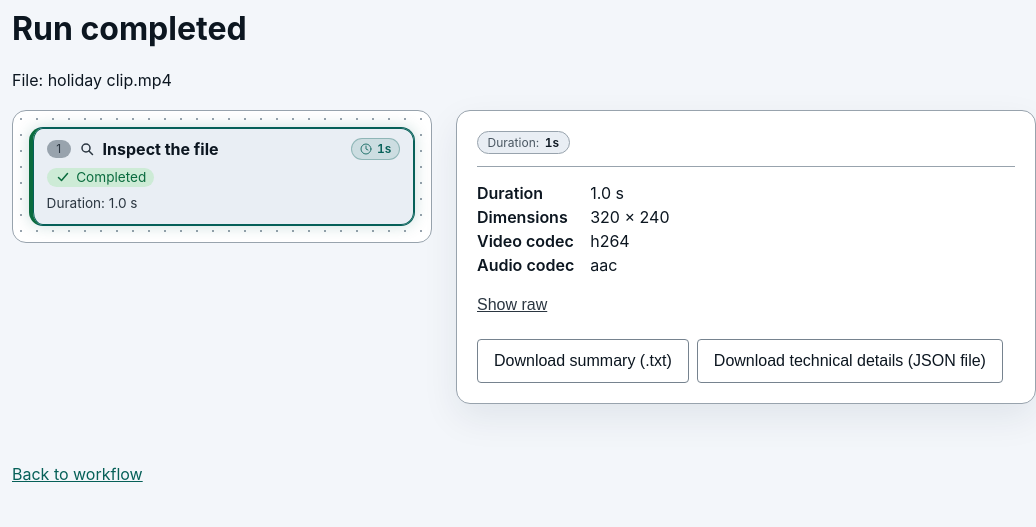
Scenario: RunProgressPage › says "Could not get download link" inline and re-enables the action when the request fails
The image size is (1036, 527).
Click the button "Download technical details (JSON file)".
click(850, 361)  # box [697,339,1003,383]
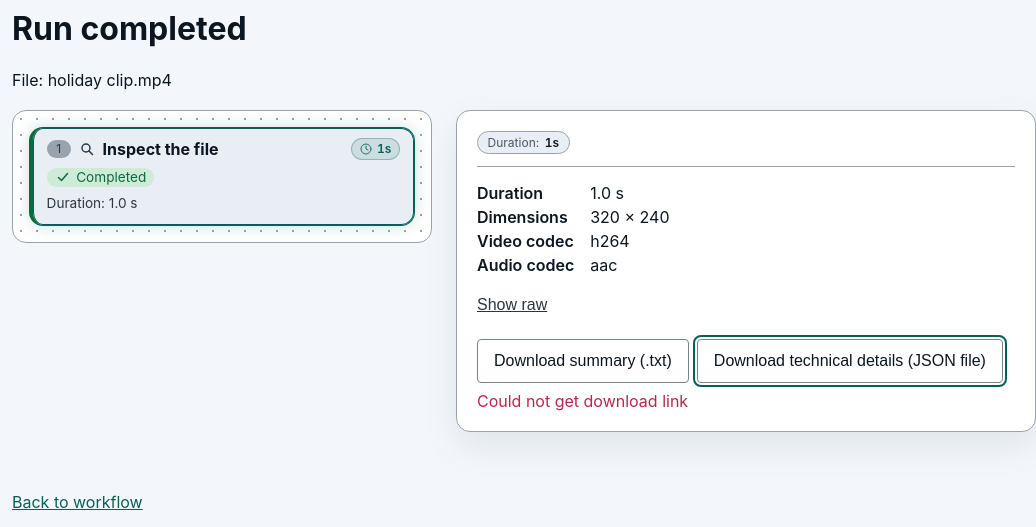
Expected: the text "Could not get download link" is shown, [477,391,688,411]
